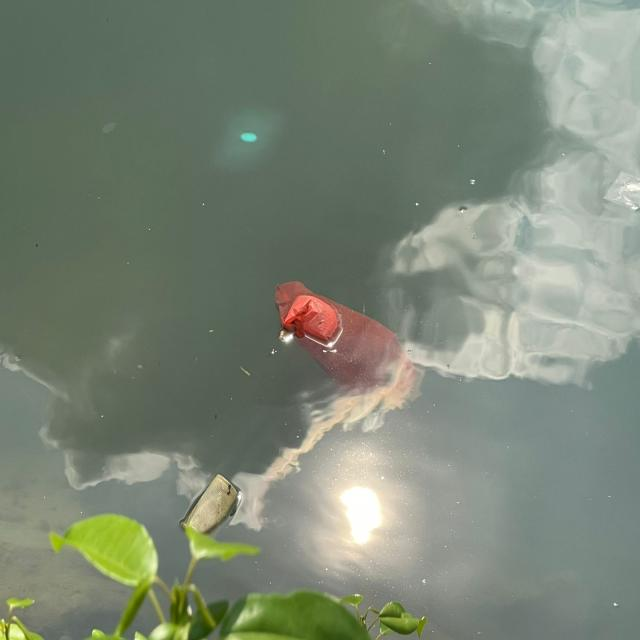Kantong Plastik: (263, 267, 435, 414)
